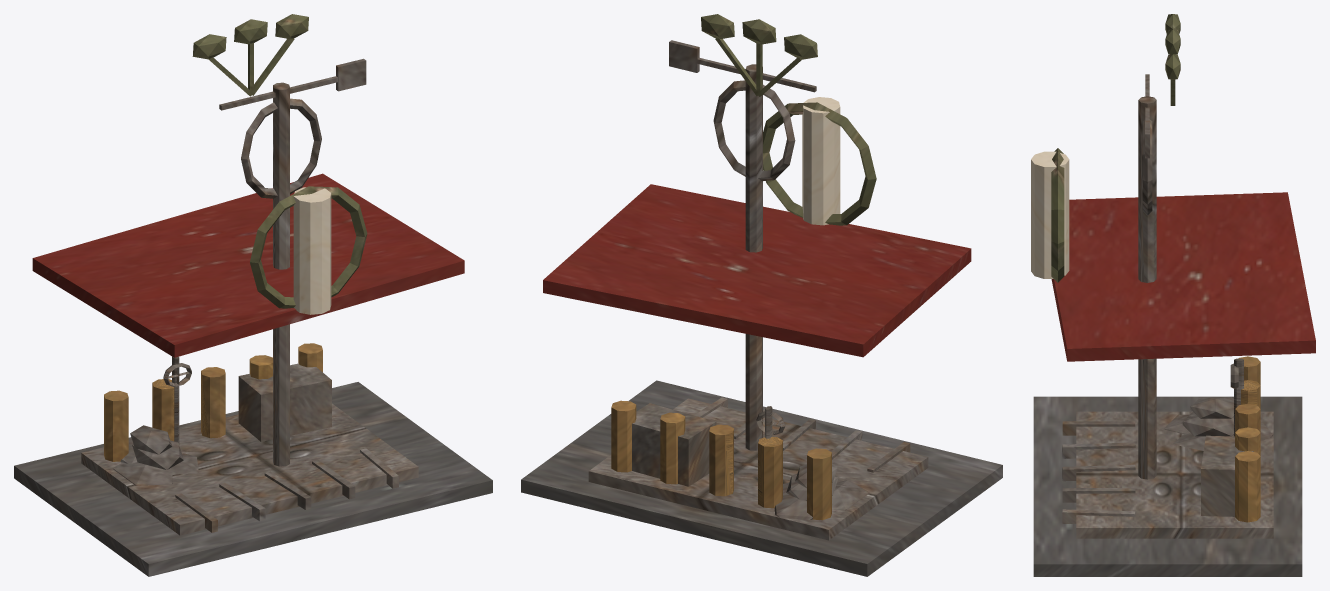
Rendered from east-seed-vault.glb.
The picture shows the model from 3 angles, left to right: view 1: azimuth 30°, elevation 25°; view 2: azimuth 150°, elevation 25°; view 3: azimuth 270°, elevation 25°; orthographic projection.
Visible parts, largest first — view 1: east-seed-vault; view 2: east-seed-vault; view 3: east-seed-vault.
Part boxes in pixels (x1,y1,x2,y2): east-seed-vault: [14, 14, 492, 576]; east-seed-vault: [521, 14, 1002, 576]; east-seed-vault: [1031, 14, 1315, 576].
Bounding box in the file's own units: 6.2 × 8 × 4.45.
Materials: 1 (1 with a texture image).
